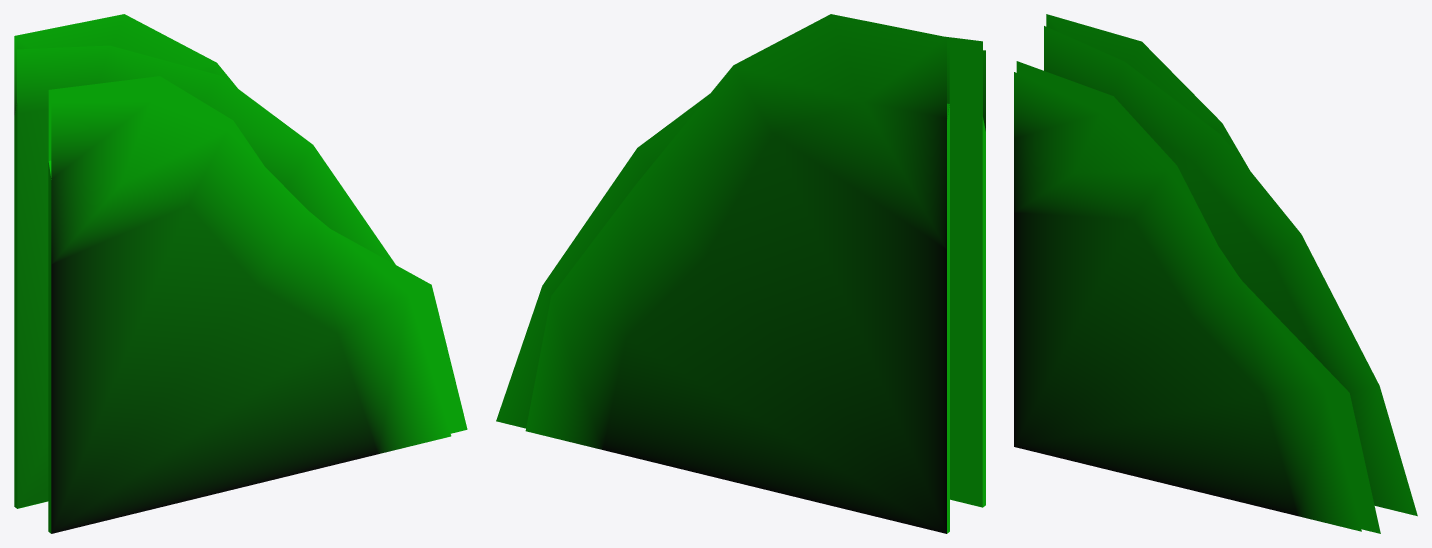
The model's file is DBK_Plywood_End_A.fbx.
3 views of the same model, side by side, from view 1: azimuth 30°, elevation 25°; view 2: azimuth 150°, elevation 25°; view 3: azimuth 330°, elevation 25° (orthographic). The views are drawn at different scales.
Parts seen in each view (by area): view 1: DBK_Plywood_End_A; view 2: DBK_Plywood_End_A; view 3: DBK_Plywood_End_A.
Part boxes in pixels (left/top/right/bottom): DBK_Plywood_End_A: left=14, top=14, right=467, bottom=533; DBK_Plywood_End_A: left=496, top=14, right=985, bottom=533; DBK_Plywood_End_A: left=1014, top=14, right=1417, bottom=533.
Size of what is drawn, in the model's own units: 167 by 175 by 24.98.
